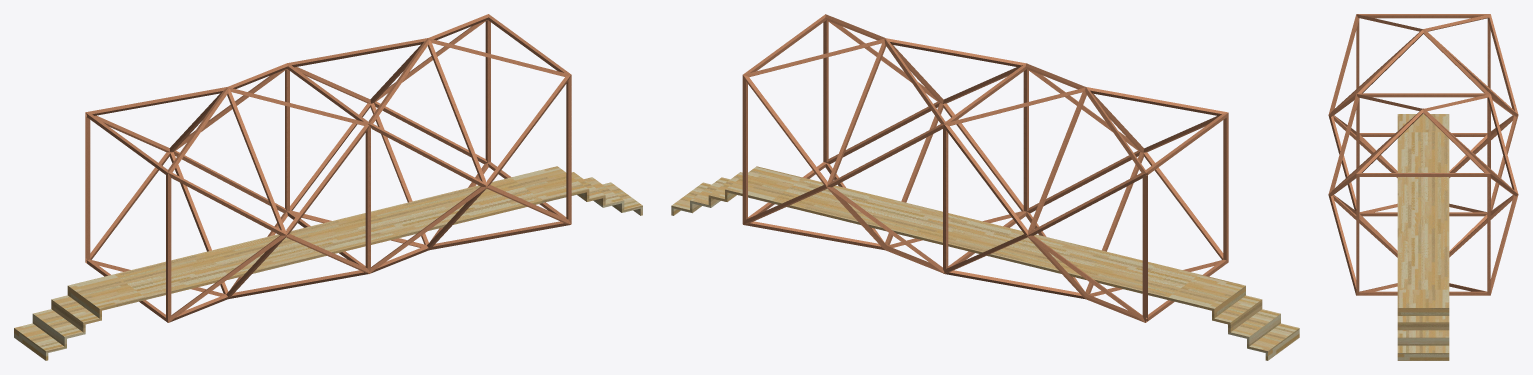
File: ponte.dae
The picture shows the model from 3 angles, left to right: view 1: azimuth 30°, elevation 25°; view 2: azimuth 150°, elevation 25°; view 3: azimuth 270°, elevation 25°; orthographic projection. The views are drawn at different scales.
Parts seen in each view (by area): view 1: SketchUp (×5); view 2: SketchUp (×5); view 3: SketchUp (×5).
Part boxes in pixels (x1,y1,x2,y2): SketchUp (×5): [14, 14, 642, 360]; SketchUp (×5): [671, 14, 1299, 360]; SketchUp (×5): [1328, 14, 1518, 360].
Bounding box in the file's own units: 504 × 171 × 173.
4 materials, 2 textured.
